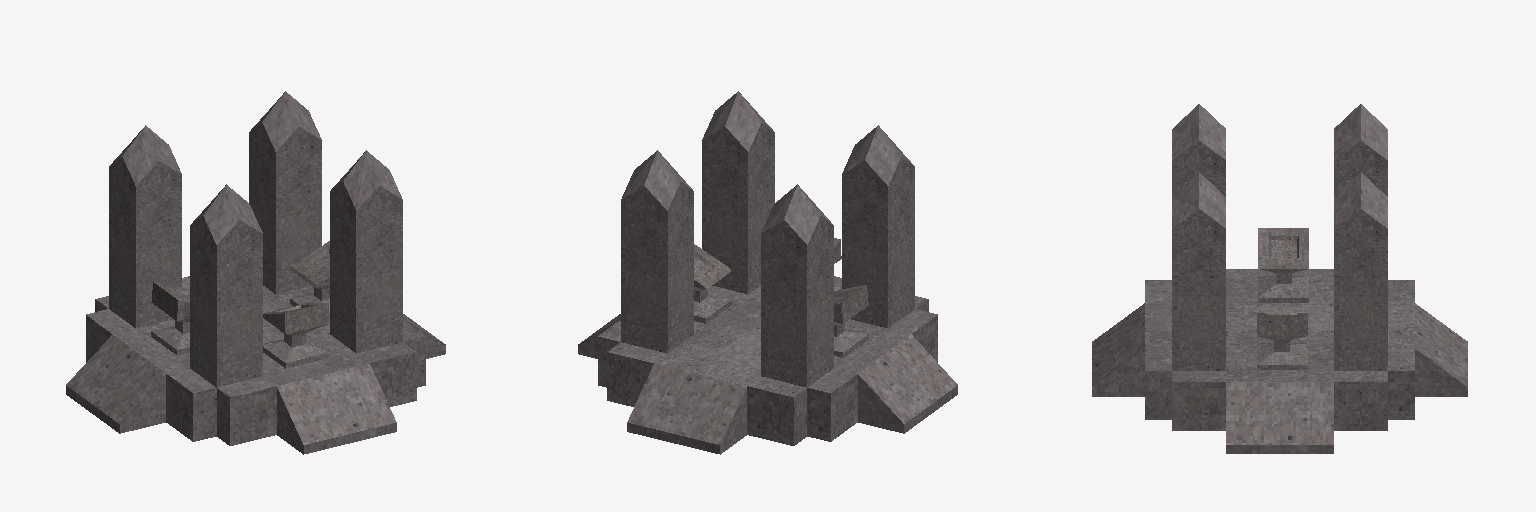
3 renders of one model, left to right at view 1: azimuth 30°, elevation 25°; view 2: azimuth 150°, elevation 25°; view 3: azimuth 270°, elevation 25°, orthographic.
Parts seen in each view (by area): view 1: Cube.002; view 2: Cube.002; view 3: Cube.002.
Boxes of the visible parts, x1,y1,x2,y2 form: Cube.002: [66, 91, 445, 454]; Cube.002: [578, 91, 957, 454]; Cube.002: [1092, 104, 1467, 453].
Bounding box in the file's own units: 3.5 × 2.43 × 3.5.
Materials: 3 (1 with a texture image).